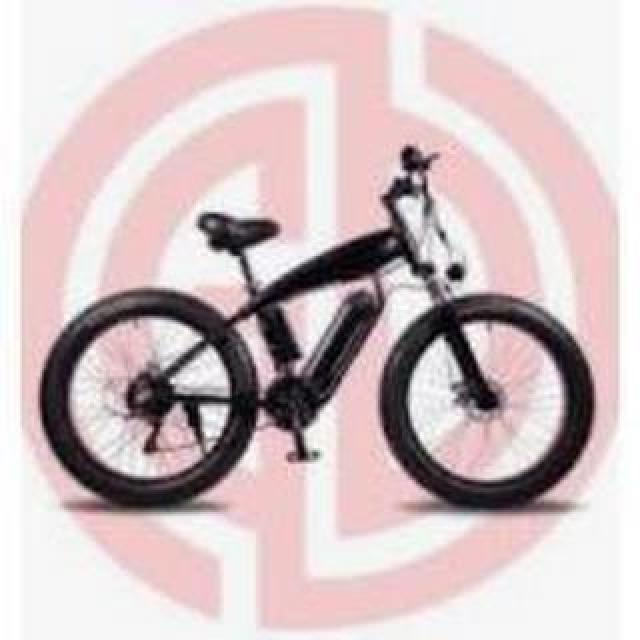Person: (40, 142, 594, 512)
